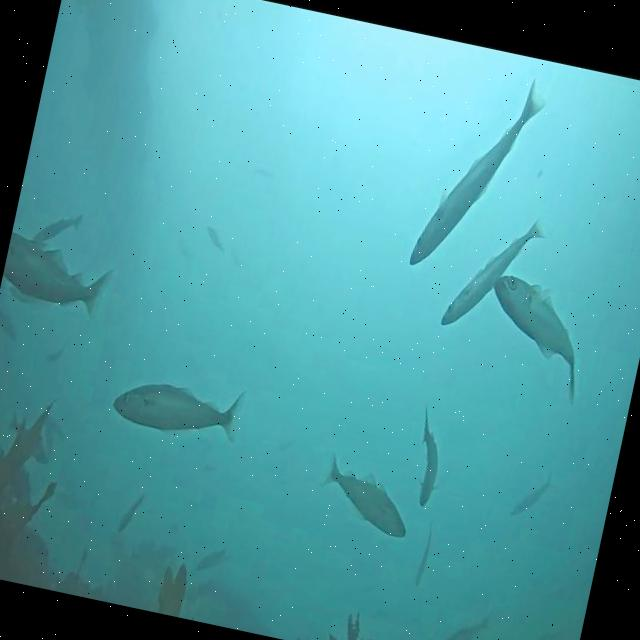fish: (410, 61, 550, 286), (471, 273, 596, 401), (442, 210, 546, 346), (110, 362, 242, 446), (0, 230, 116, 321), (313, 454, 419, 540), (404, 408, 454, 511), (29, 204, 82, 256), (510, 469, 552, 518), (433, 609, 491, 640), (414, 518, 436, 586), (194, 542, 226, 580), (8, 285, 53, 309), (120, 490, 144, 532), (36, 414, 70, 442), (0, 306, 22, 340), (203, 226, 228, 253)
